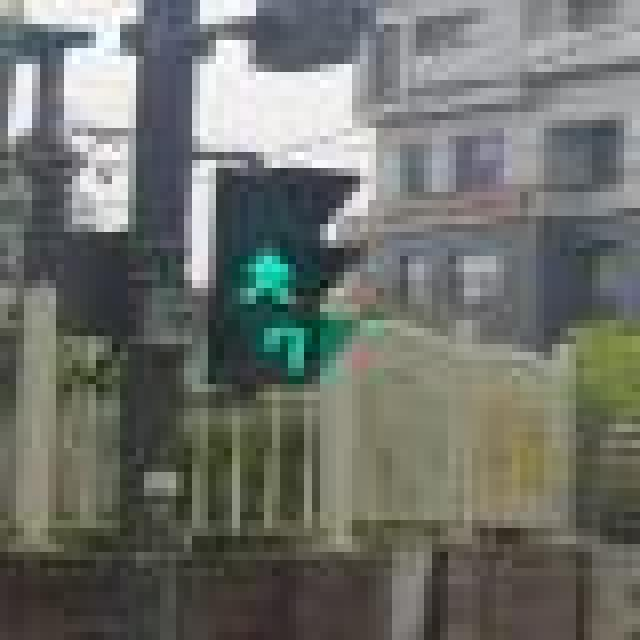greenlight: (210, 158, 342, 322)
